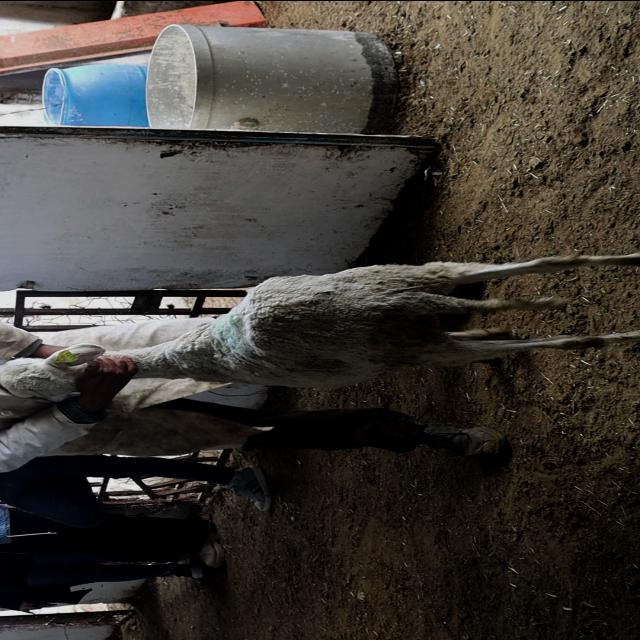Score_1: (0, 252, 639, 401)
